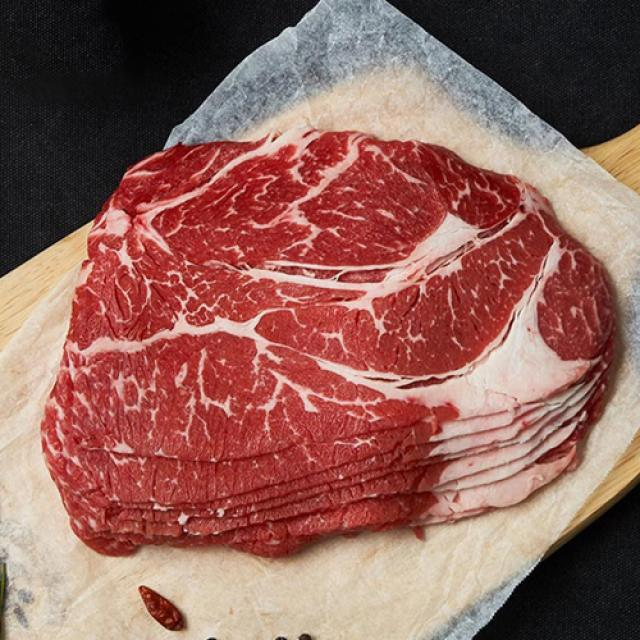pork: (17, 107, 627, 559)
